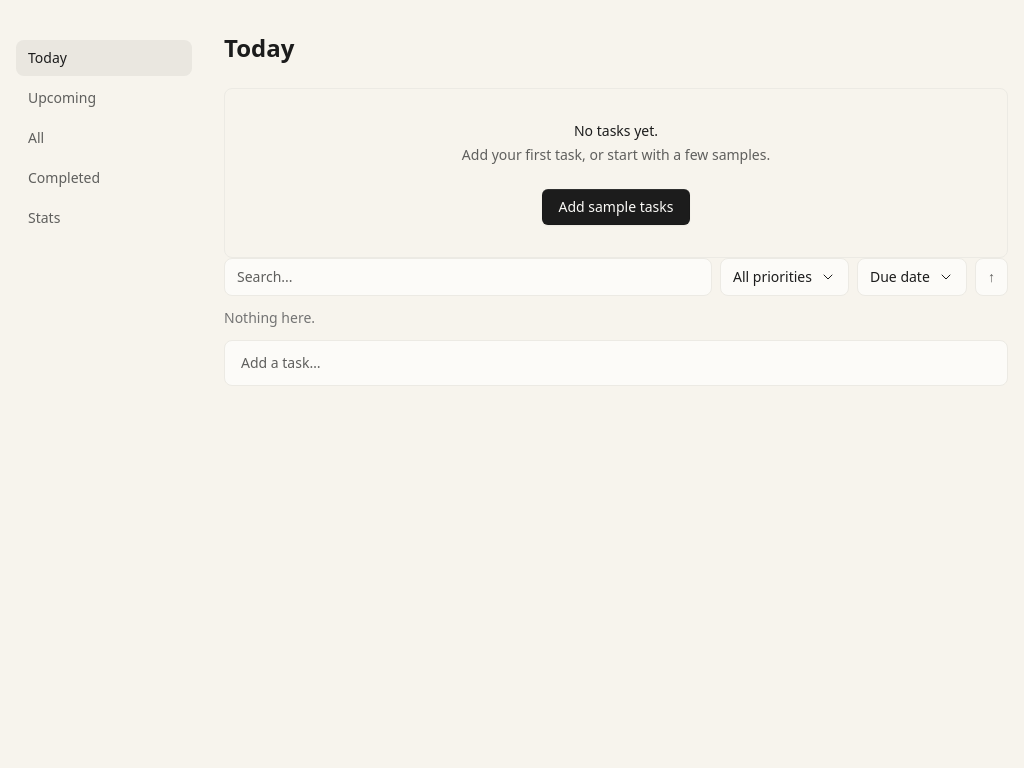
Test: QuickAdd AI — natural-language parse › error response falls back to manual entry and user can still add a task
Type keys "{Meta>}k{/Meta}"
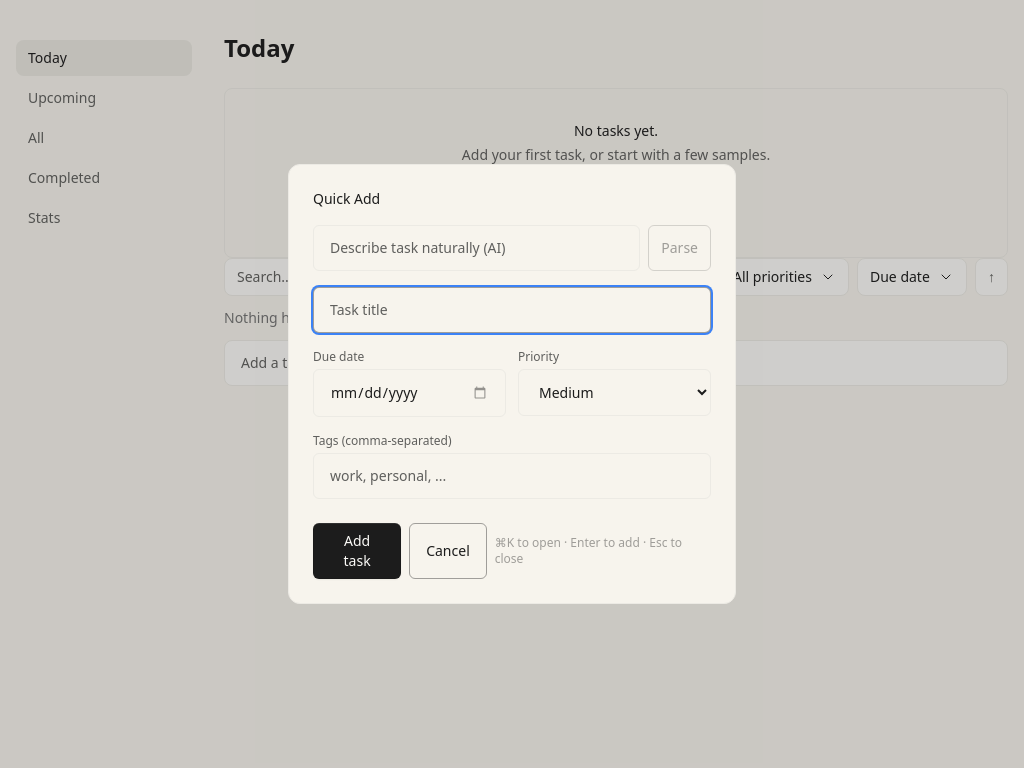
Type "something" into the field labelled "Describe task naturally" at (477, 248), box [313,225,640,271]
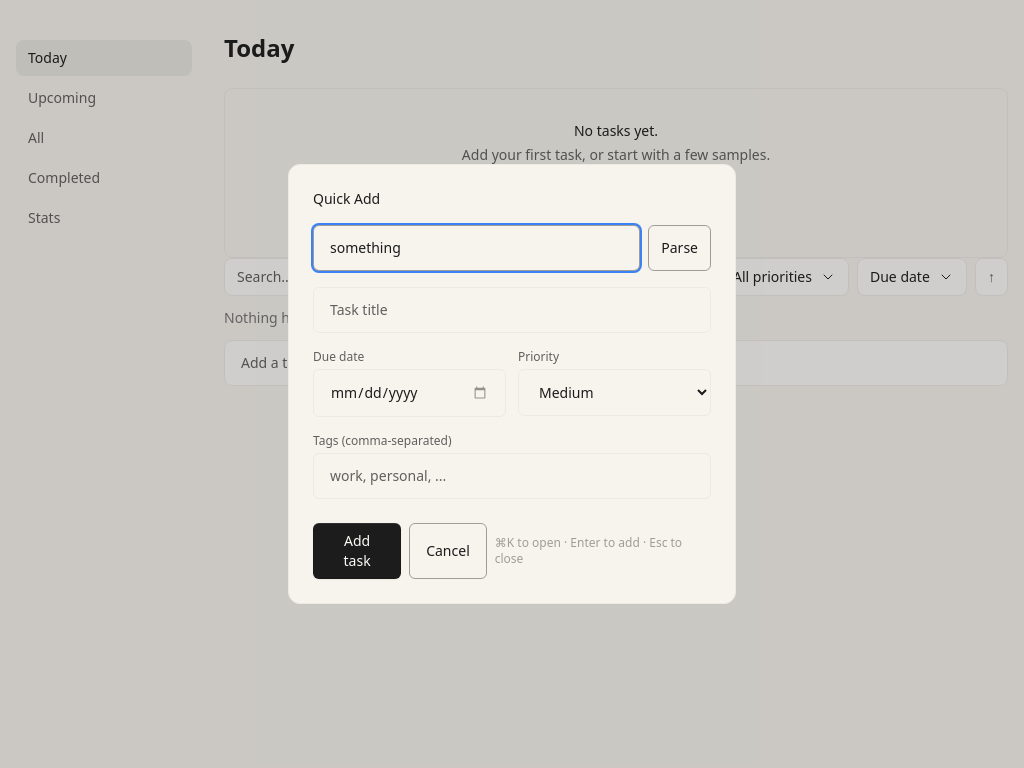
Click the button "Parse" at (680, 248), box [648,225,711,271]
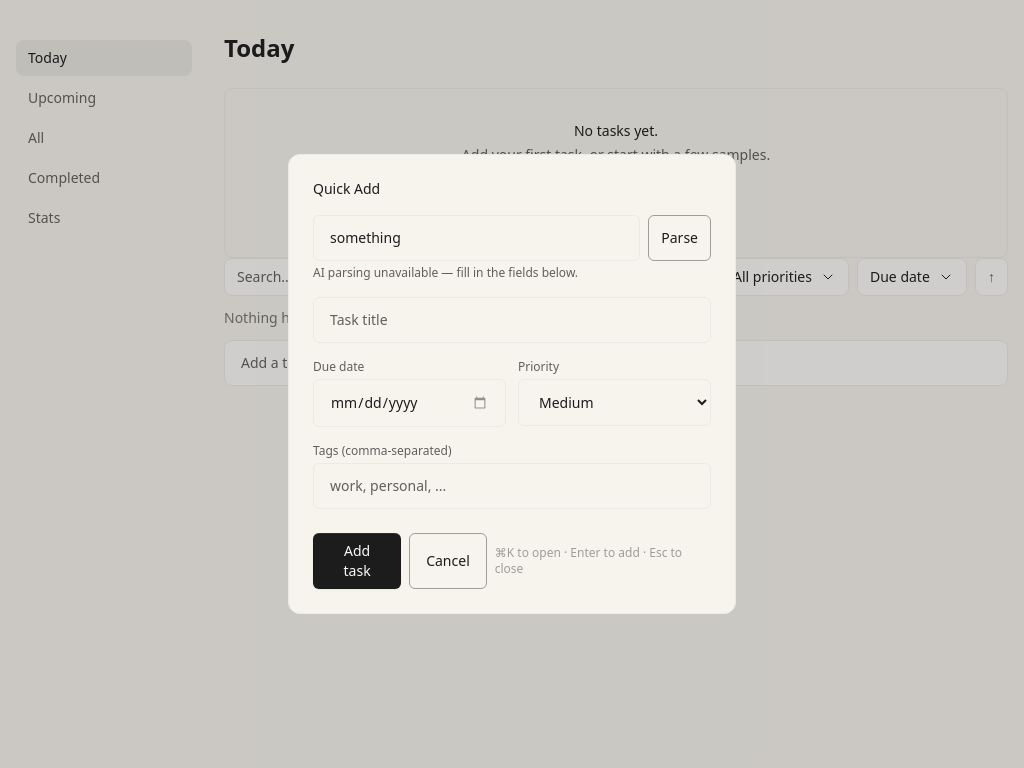
Expected: the text "AI parsing unavailable — fill in the fields below." is shown, [313,264,578,281]
Manual fields still usable
Type "Manual task" into the field labelled "Task title" at (512, 320), box [313,297,711,343]
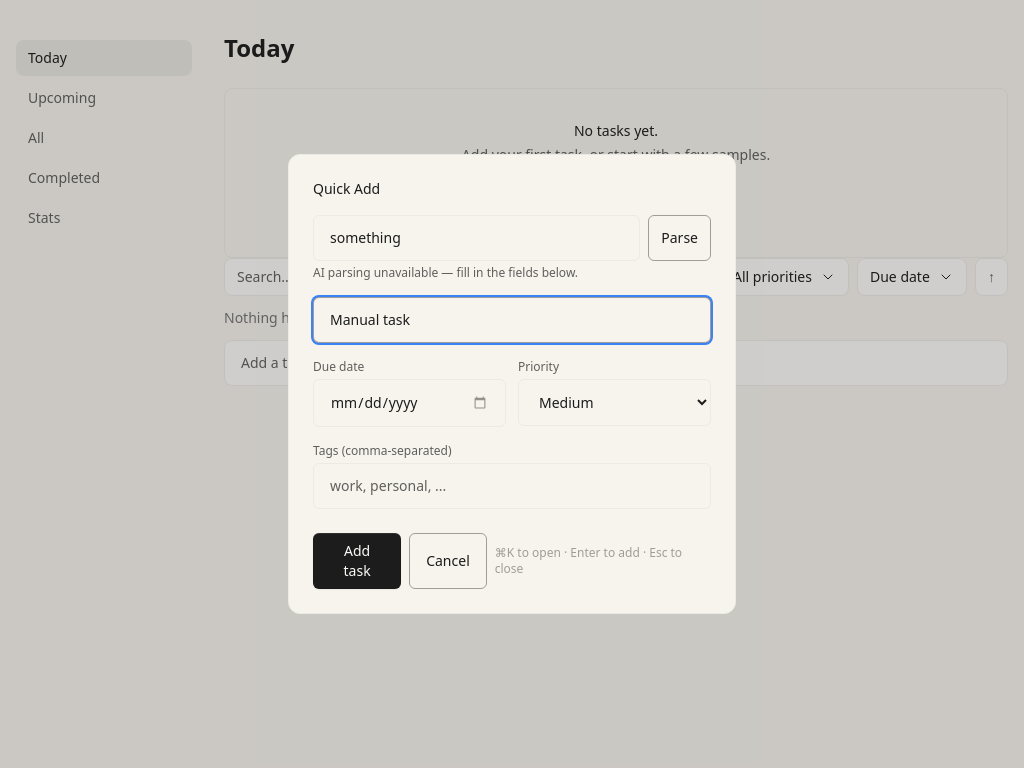
Click the button "Add task" at (357, 561), box [313,533,401,589]
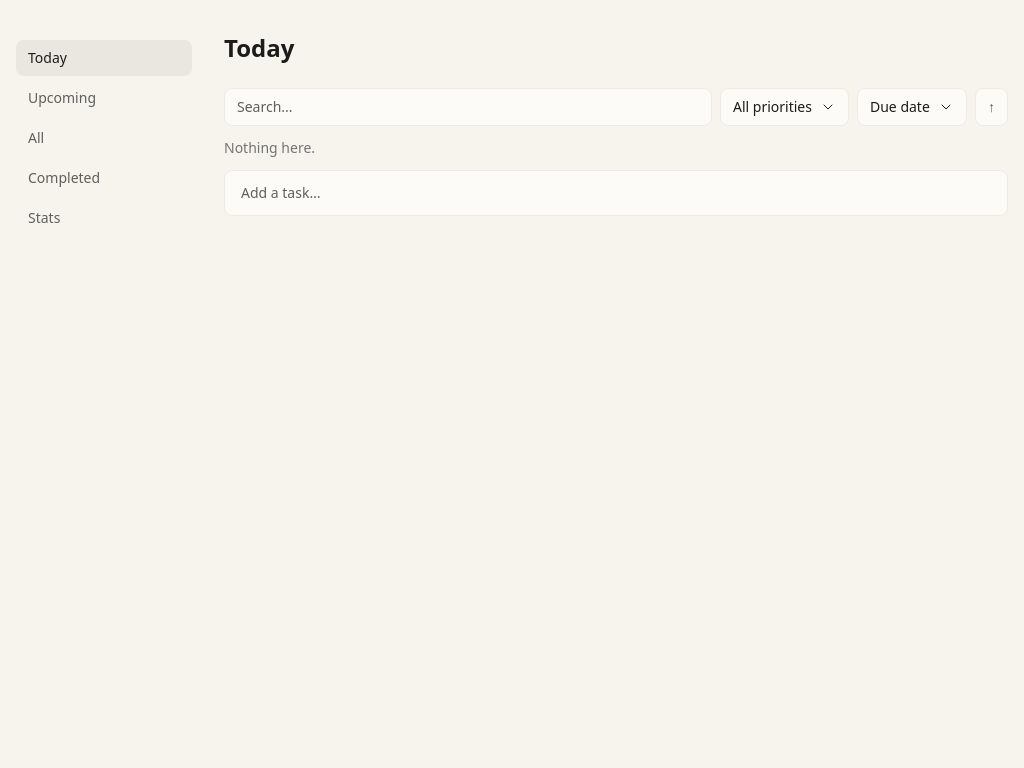
Task added
Click the button "All" at (104, 138), box [16,120,192,156]
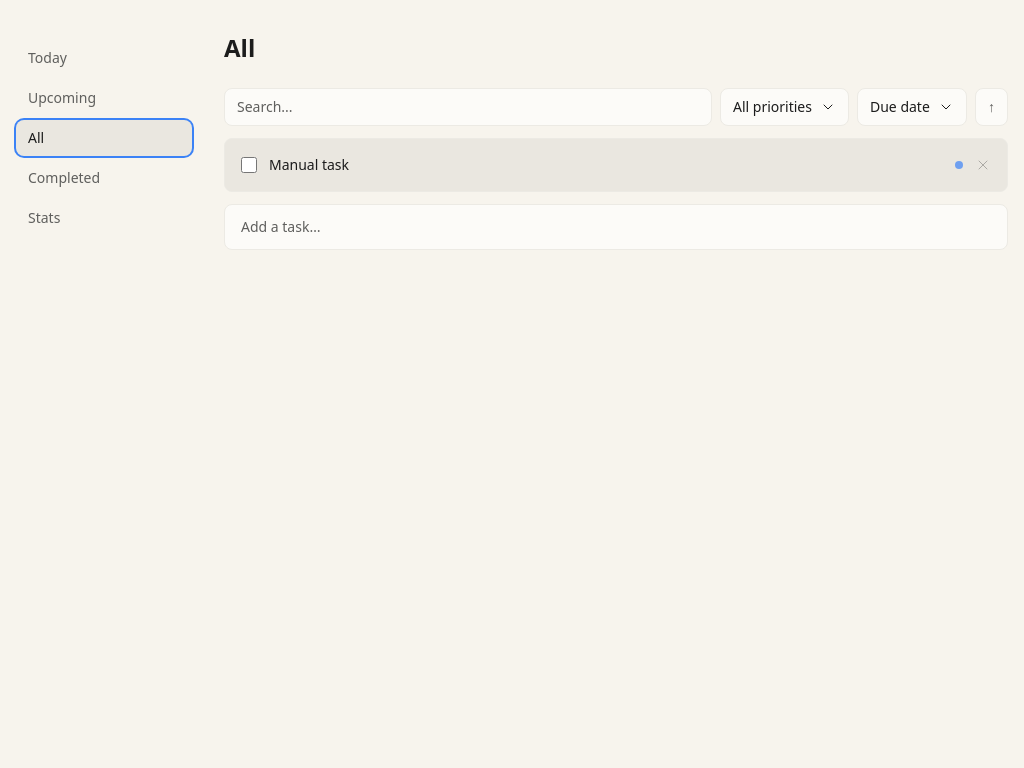
Expected: the button "Manual task" is shown, [269,155,943,175]
